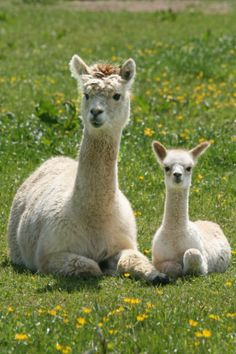alpaca: (7, 54, 145, 276), (151, 138, 232, 278)
